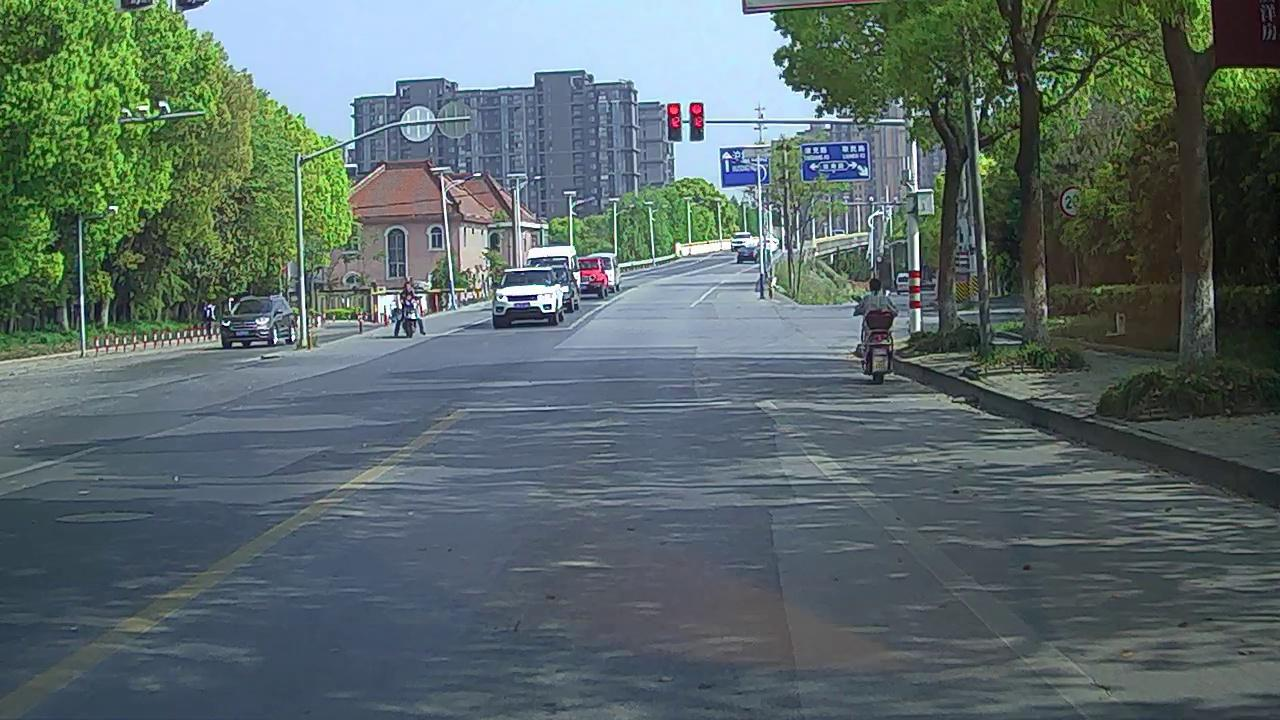traffic_light: (667, 102, 682, 142), (691, 103, 705, 141)
